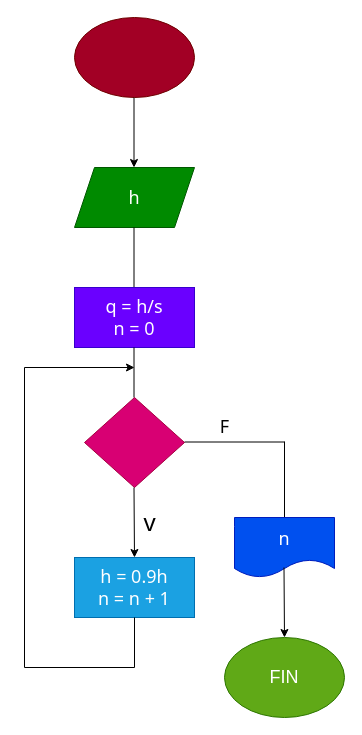
The diagram is 362 pixels wide and 735 high, and some of its shapes have lost their labels. Each missing label, with the centre of its shape:
"h > = q" goes at point (134, 442).
"INICIO" goes at point (134, 57).
